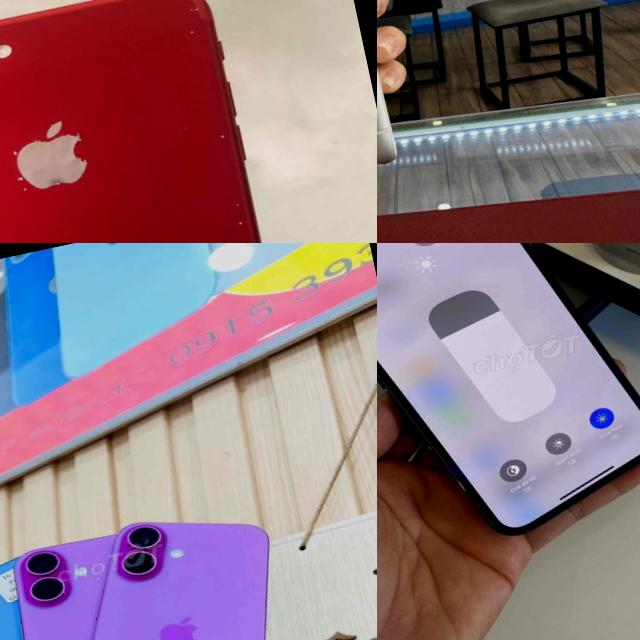gen_12_13: (377, 243, 640, 567)
gen_16: (31, 487, 313, 640)
gen_7_8: (0, 0, 356, 243)
